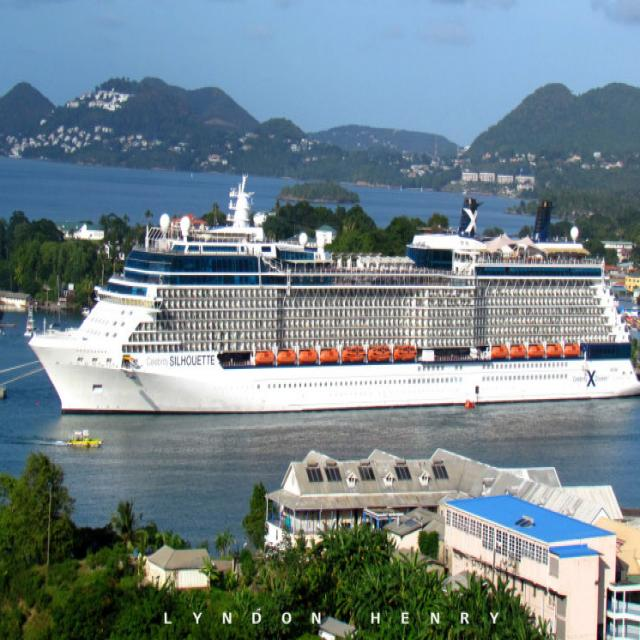cruises: (31, 165, 640, 423)
